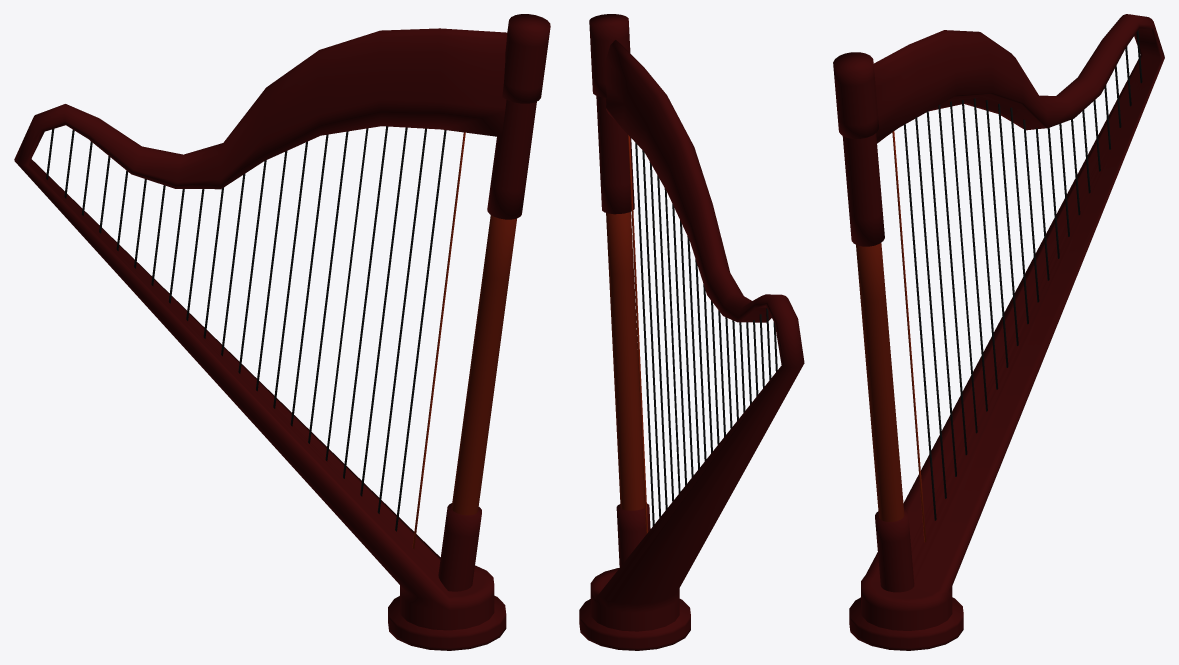
File: Harp.obj
3 renders of one model, left to right at view 1: azimuth 30°, elevation 25°; view 2: azimuth 150°, elevation 25°; view 3: azimuth 270°, elevation 25°, orthographic. The views are drawn at different scales.
Bounding box in the file's own units: 293 × 454 × 230.
